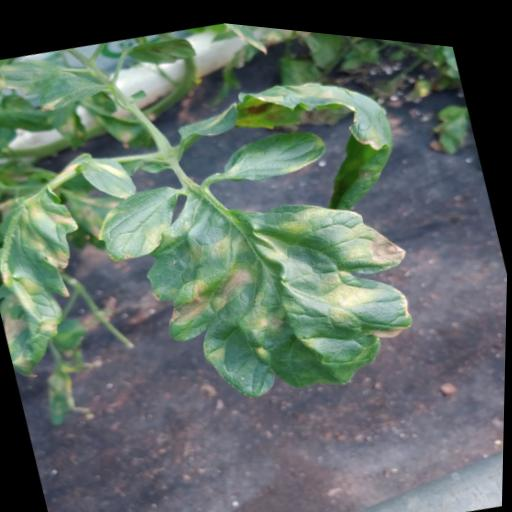Leaf Mold: (130, 138, 441, 430), (219, 45, 413, 232), (0, 163, 119, 386), (0, 36, 119, 154), (212, 107, 334, 193), (85, 173, 192, 269), (76, 146, 138, 206)
